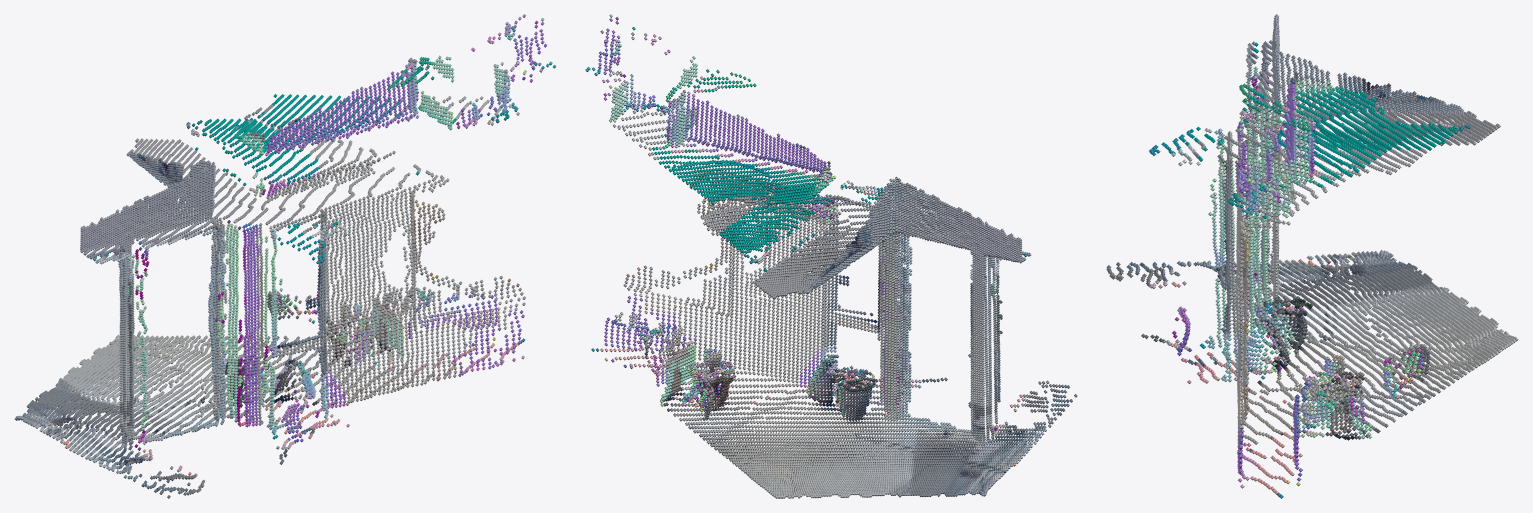
Rendered from combine_gt.glb.
3 views of the same model, side by side, from view 1: azimuth 30°, elevation 25°; view 2: azimuth 150°, elevation 25°; view 3: azimuth 270°, elevation 25° (orthographic). The views are drawn at different scales.
Parts seen in each view (by area): view 1: world; view 2: world; view 3: world.
Boxes of the visible parts, box(x1,y1,x2,y2) form: world: box(14, 14, 556, 498); world: box(585, 14, 1077, 498); world: box(1106, 14, 1518, 498).
Size of the model in its own units: 7.2 by 4.91 by 4.88.
